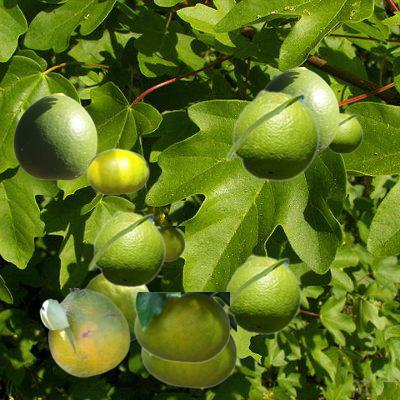dalandan: (225, 89, 319, 181), (39, 288, 129, 376), (13, 93, 96, 179), (141, 317, 235, 387), (134, 292, 228, 362), (264, 67, 338, 153), (223, 254, 301, 334), (87, 210, 165, 287), (85, 273, 149, 342), (86, 148, 148, 194), (328, 112, 362, 153), (158, 226, 183, 260)
